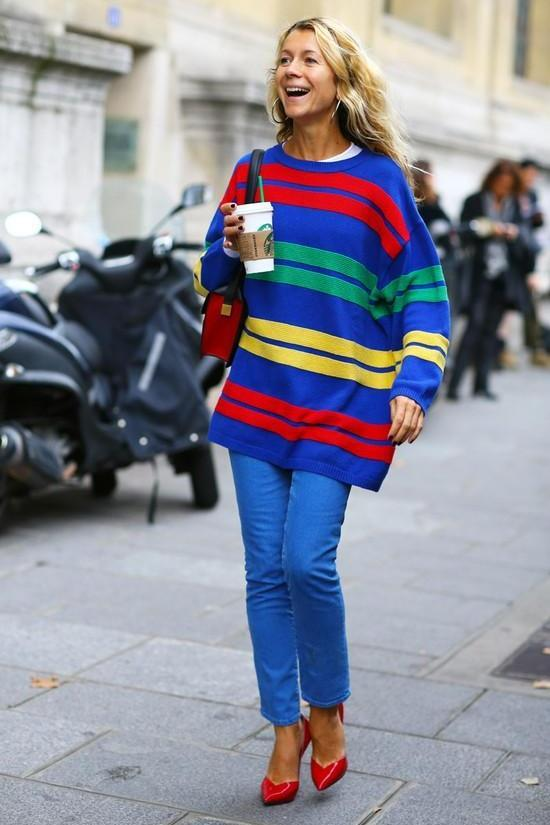pants: (227, 422, 350, 728)
sweater: (193, 139, 450, 492)
